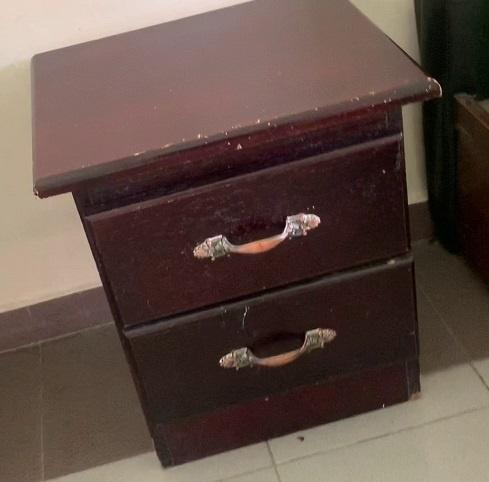cabinet_door: (109, 185, 410, 289), (143, 297, 414, 393)
handle: (189, 210, 321, 266), (214, 324, 339, 379)
